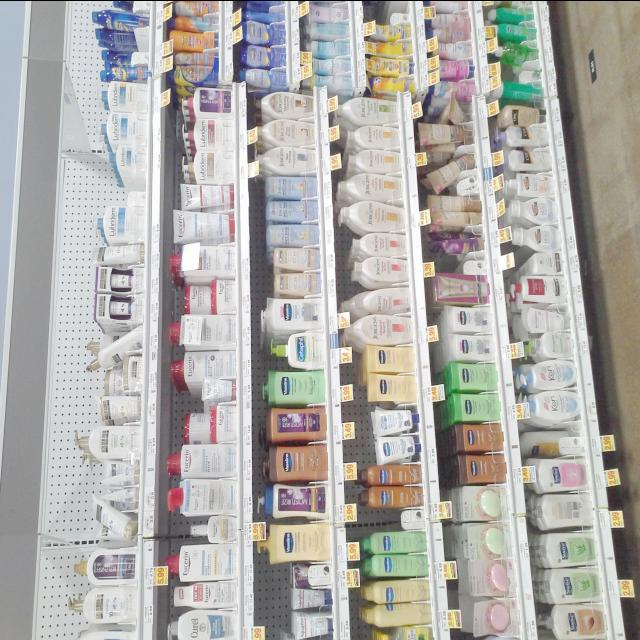empty_space: (116, 181, 144, 199), (378, 0, 408, 14)
